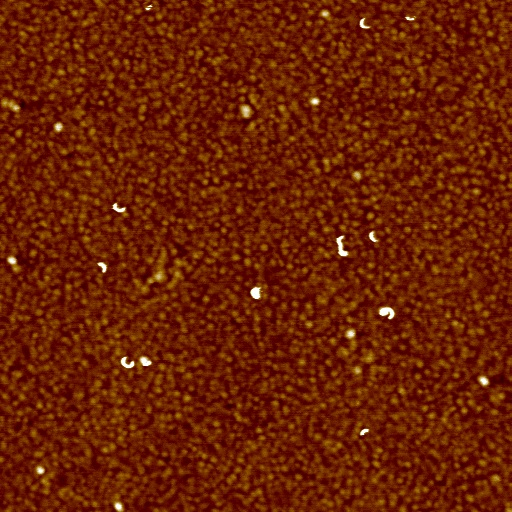-1: (333, 233, 349, 258), (476, 374, 491, 388), (138, 353, 153, 367), (249, 285, 261, 300), (5, 255, 19, 266), (52, 119, 63, 133), (310, 95, 322, 105), (113, 501, 124, 510), (36, 465, 44, 475)
1/4: (366, 230, 381, 245), (95, 259, 108, 274), (358, 426, 371, 438), (404, 13, 418, 24)
2/4: (111, 199, 127, 216), (359, 15, 372, 31)
3/4: (377, 304, 395, 320), (119, 355, 136, 370)
